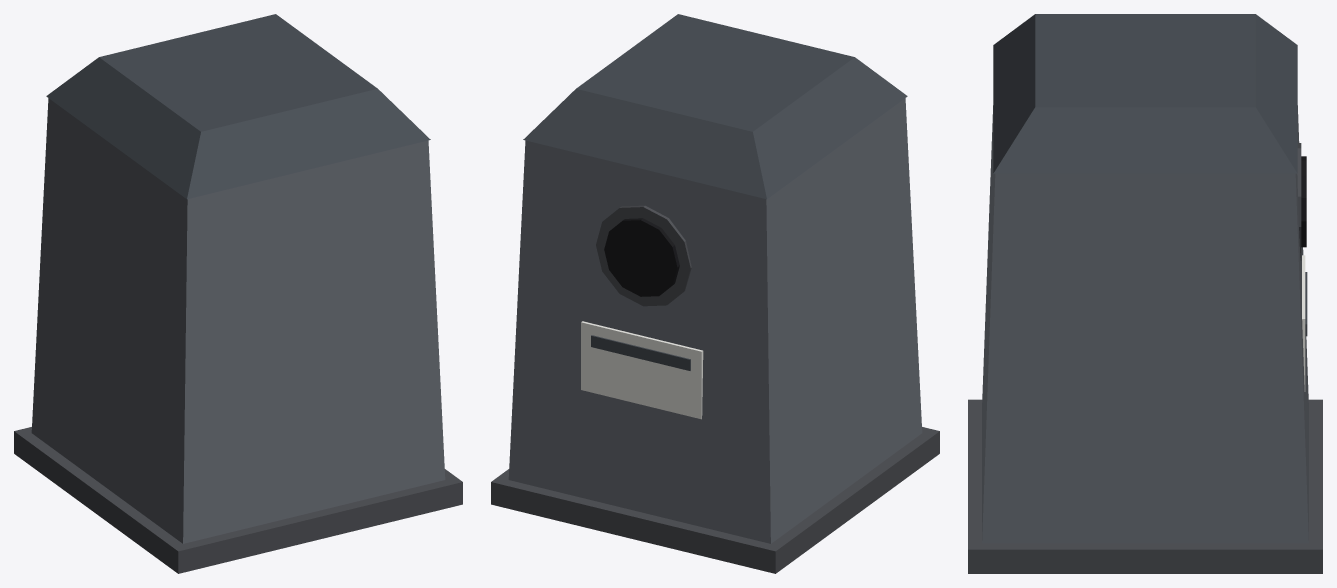
File: Ecoponto_Grey.fbx
The picture shows the model from 3 angles, left to right: view 1: azimuth 30°, elevation 25°; view 2: azimuth 150°, elevation 25°; view 3: azimuth 270°, elevation 25°; orthographic projection. The views are drawn at different scales.
Visible parts, largest first — view 1: Ecoponto_Grey; view 2: Ecoponto_Grey; view 3: Ecoponto_Grey.
Boxes of the visible parts, x1,y1,x2,y2 form: Ecoponto_Grey: (14, 14, 462, 573); Ecoponto_Grey: (491, 14, 939, 573); Ecoponto_Grey: (968, 14, 1322, 573).
Bounding box in the file's own units: 1.32 × 1.8 × 1.32.
